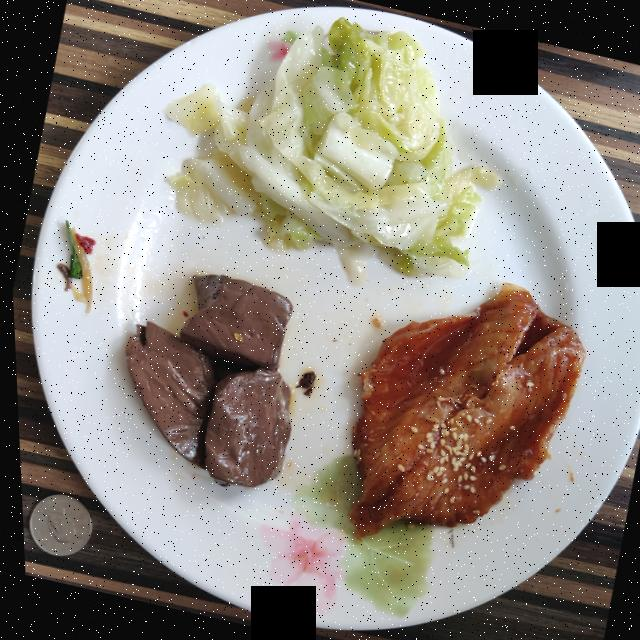Kabayaki sea bream fillet: (343, 283, 580, 538)
cabbage: (163, 18, 497, 284)
coin: (22, 494, 86, 556)
pig blood curd: (121, 274, 287, 487)
